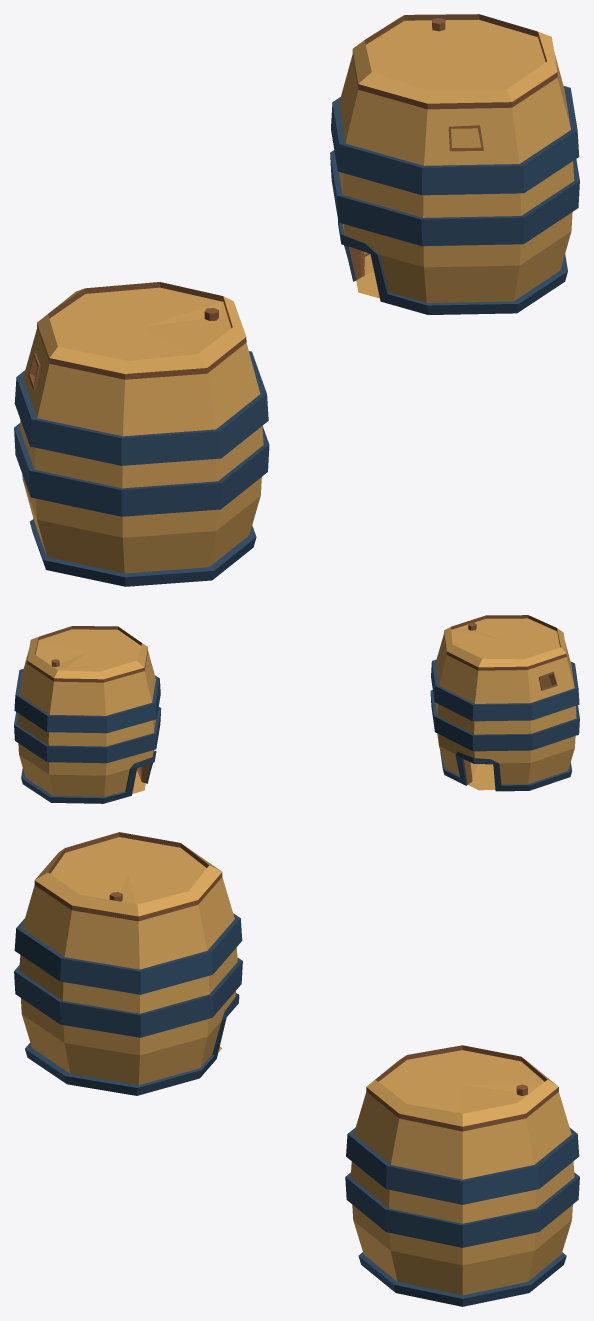
Rendered from rum_building.gltf.
3 views of the same model, one above another, from view 1: azimuth 30°, elevation 25°; view 2: azimuth 150°, elevation 25°; view 3: azimuth 270°, elevation 25° (orthographic). The views are drawn at different scales.
Visible parts, largest first — view 1: run_building; view 2: run_building; view 3: run_building.
Part boxes in pixels (x1,y1,x2,y2): run_building: (14, 14, 579, 586); run_building: (14, 615, 579, 803); run_building: (14, 832, 579, 1306).
Size of the model in its own units: 2.7 by 0.7634 by 2.09.
1 material, 1 textured.
